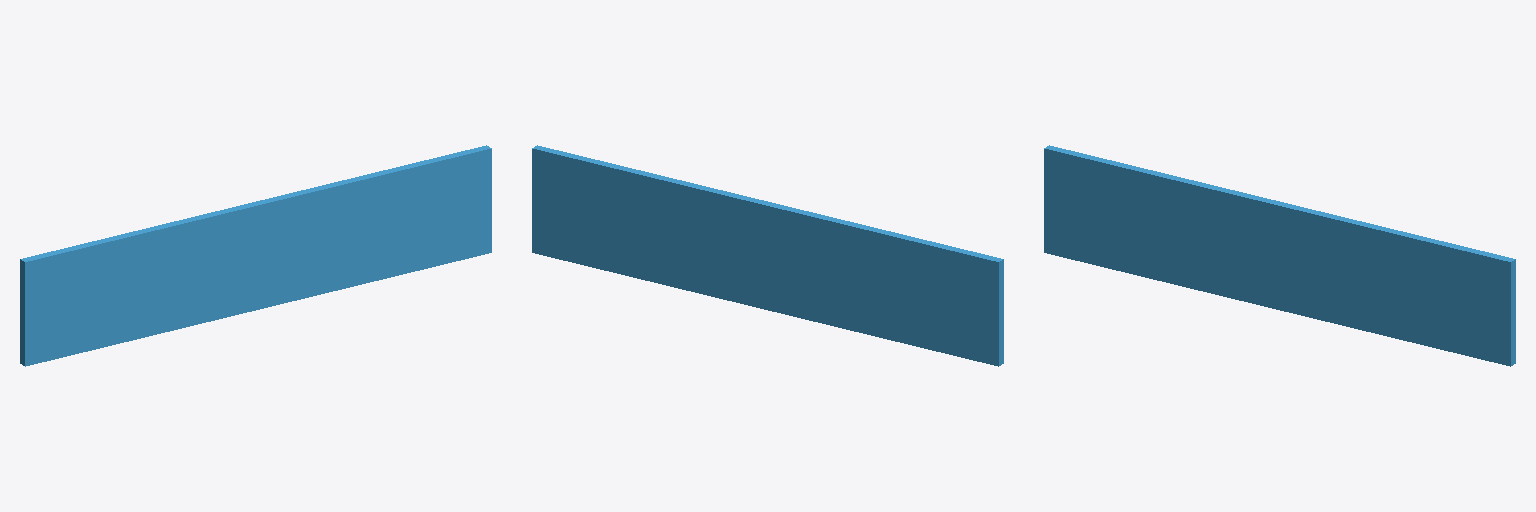
The robot description file, URDF, robot "hemis_25":
<?xml version="1.0" encoding="utf-8"?>    
    <robot name="hemis_25">
        <link name="hemis_25">    
            <fem>
                <origin rpy="0.0 0.0 0.0" xyz="0 0 0" />
                <density value="100" />
                <youngs value="4598"/>
                <poissons value="0.3" />
                <damping value="0.0" />
                <attachDistance value="0.04" />
                <tetmesh filename="[local-path]/sim_data/Custom/Custom_mesh/multi_hemis_5kPa/hemis_25.tet" />
                <scale value="0.5"/>
            </fem>
        </link>

        <link name="fix_frame">
            <visual>
                <origin xyz="0 -10.128330072710328 0.06416503635516438"/>              
                <geometry>
                    <box size="0.3 0.005 0.06416503635516438"/>
                </geometry>
            </visual>
            <collision>
                <origin xyz="0 -0.12833007271032876 0.06416503635516438"/>              
                <geometry>
                    <box size="0.3 0.005 0.06416503635516438"/>
                </geometry>
            </collision>
            <inertial>
                <mass value="500000"/>
                <inertia ixx="0.05" ixy="0.0" ixz="0.0" iyy="0.05" iyz="0.0" izz="0.05"/>
            </inertial>
        </link>
        
        <joint name = "attach" type = "fixed">
            <origin xyz = "0.0 0.0 0.0" rpy = "0 0 0"/>
            <parent link ="hemis_25"/>
            <child link = "fix_frame"/>
        </joint>  




    </robot>
    

--- What the picture shows (computed from the rendered views, not written in the file) ---
The picture shows the robot from 3 angles, left to right: view 1: azimuth 30°, elevation 25°; view 2: azimuth 150°, elevation 25°; view 3: azimuth 330°, elevation 25°; orthographic projection.
Robot: hemis_25 — 2 links, 1 joints (1 fixed); root link hemis_25; default pose: every joint at zero.
Links seen in each view (by area): view 1: fix_frame; view 2: fix_frame; view 3: fix_frame.
Link boxes in pixels (x1,y1,x2,y2): fix_frame: (20,145,491,366); fix_frame: (532,145,1003,366); fix_frame: (1044,145,1515,366).
Bounding box of the posed robot: 0.3 × 0.005 × 0.0642 m (x, y, z).
Geometry: primitives only (box / cylinder / sphere), no mesh files.
